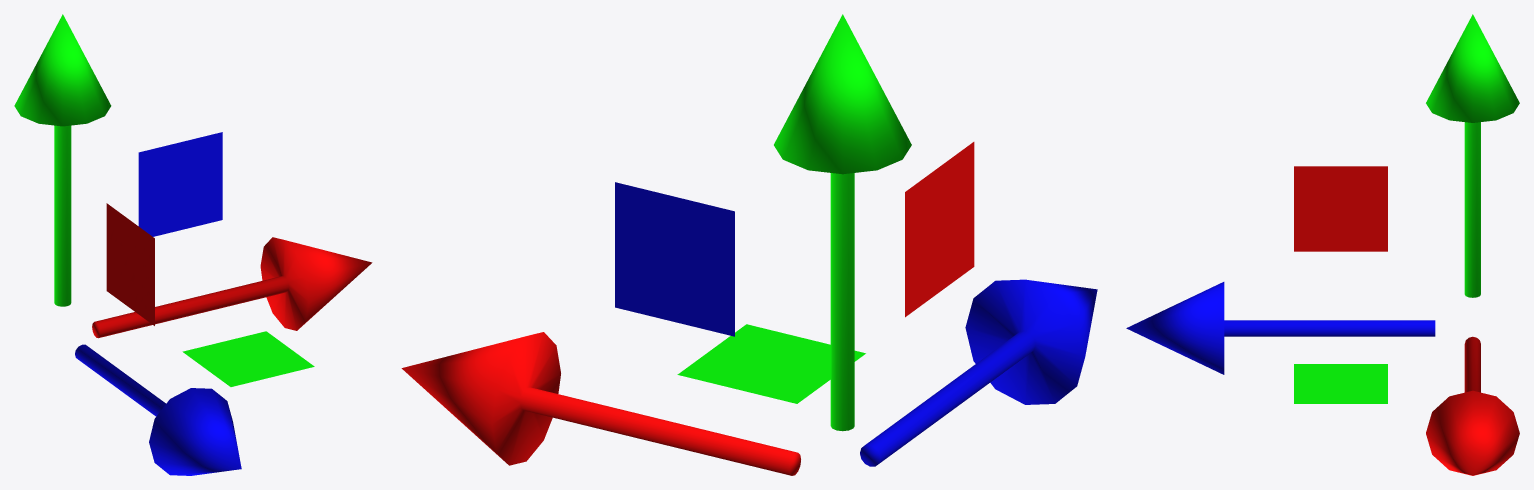
File: gizmo_translate.glb
3 renders of one model, left to right at view 1: azimuth 30°, elevation 25°; view 2: azimuth 150°, elevation 25°; view 3: azimuth 270°, elevation 25°, orthographic. The views are drawn at different scales.
Visible parts, largest first — view 1: axis_y, axis_x, axis_z, plane_xy, plane_yz, plane_xz; view 2: axis_y, axis_x, axis_z, plane_xy, plane_yz, plane_xz; view 3: axis_y, axis_z, plane_yz, axis_x, plane_xz.
Part boxes in pixels (x1,y1,x2,y2): axis_y: (14,14,111,306); axis_x: (92,237,372,338); axis_z: (75,344,241,475); plane_xy: (138,132,222,236); plane_yz: (106,203,154,325); plane_xz: (182,331,314,386); axis_y: (774,14,911,431); axis_x: (401,332,800,475); axis_z: (860,279,1097,466); plane_xy: (615,182,734,336); plane_yz: (905,142,974,317); plane_xz: (677,324,865,403); axis_y: (1426,14,1519,297); axis_z: (1126,282,1435,374); plane_yz: (1294,166,1387,251); axis_x: (1426,336,1519,475); plane_xz: (1294,364,1387,403).
Bounding box in the file's own units: 1.14 × 1.14 × 1.14.
